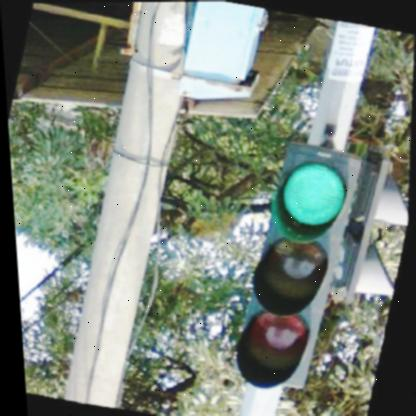Traffic Light -Green-: (215, 139, 382, 395)
